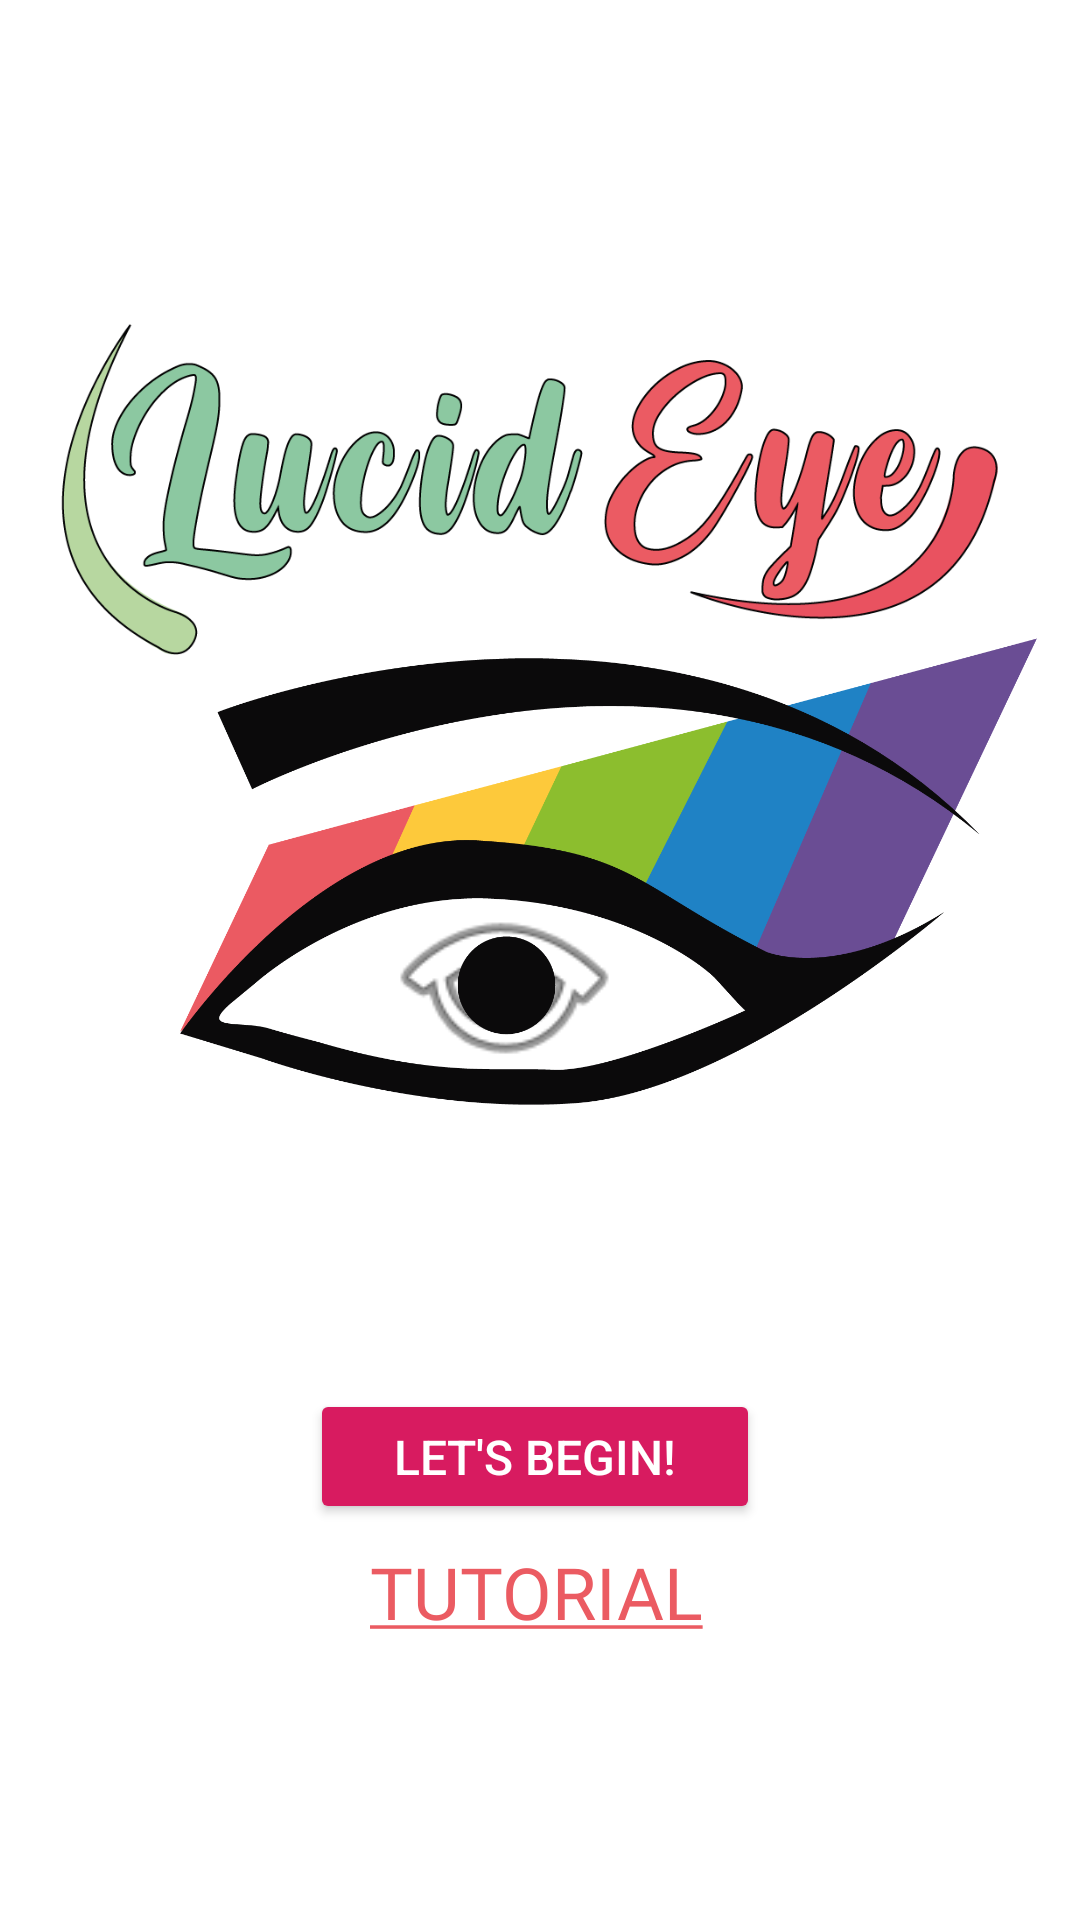

Icon click points for this 1080x1920 phone screenshot, format point (x, y):
view: point (504, 981)
